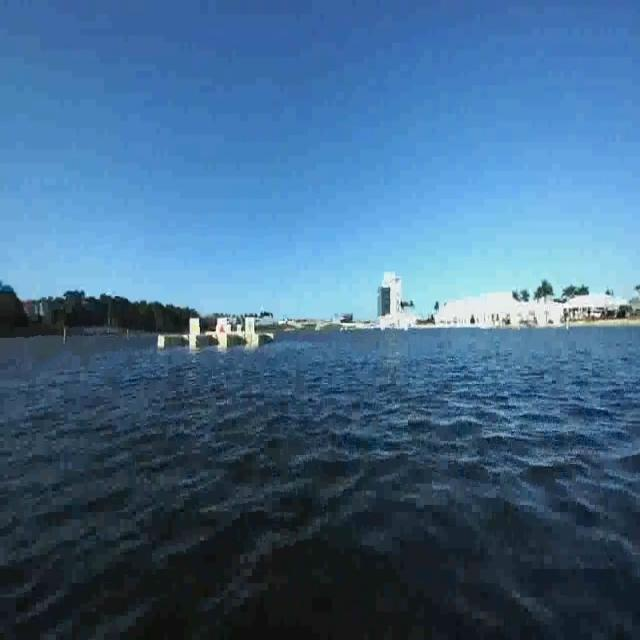red-dot: (216, 316, 226, 334)
yellow-duck: (190, 317, 200, 335)
